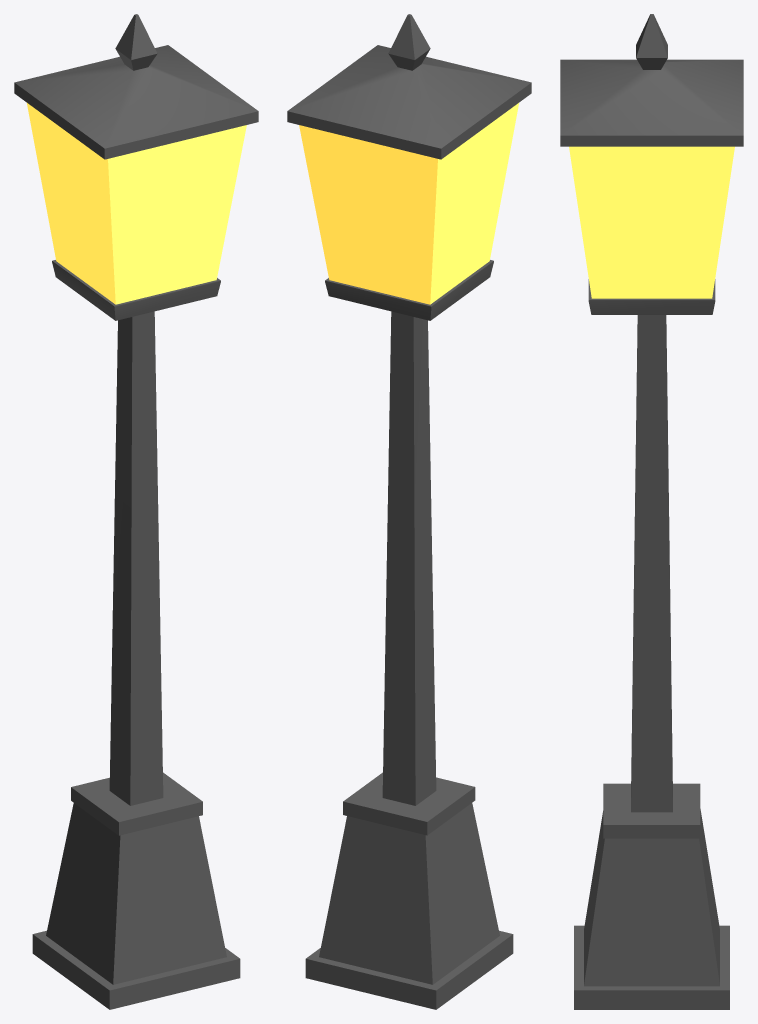
3 views of the same model, side by side, from view 1: azimuth 30°, elevation 25°; view 2: azimuth 150°, elevation 25°; view 3: azimuth 270°, elevation 25° (orthographic).
Parts seen in each view (by area): view 1: lampadaire; view 2: lampadaire; view 3: lampadaire.
Part boxes in pixels (box(x1,y1,x2,y2)): lampadaire: box(14, 14, 258, 1009); lampadaire: box(287, 14, 531, 1009); lampadaire: box(560, 14, 743, 1009).
Bounding box in the file's own units: 0.3975 × 2.35 × 0.4049.
